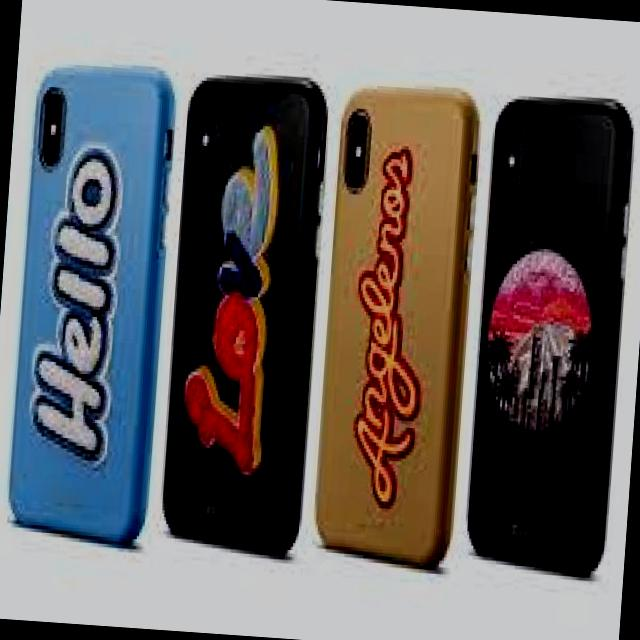lens_back: (494, 162, 522, 202), (342, 158, 372, 190), (345, 110, 372, 145), (40, 138, 70, 166), (502, 122, 526, 156), (193, 100, 216, 132), (192, 145, 215, 175), (44, 94, 62, 122)
phone: (154, 66, 333, 558), (307, 76, 483, 572), (461, 91, 636, 580), (3, 59, 176, 548)
